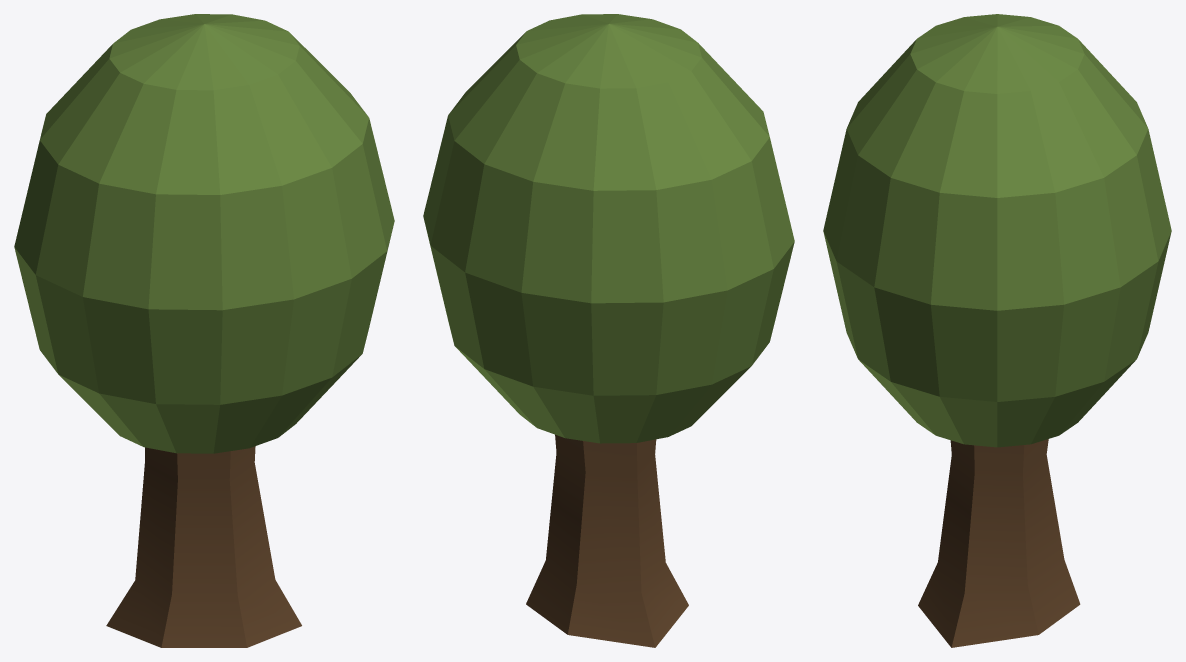
Rendered from Pohon1.fbx.
The picture shows the model from 3 angles, left to right: view 1: azimuth 30°, elevation 25°; view 2: azimuth 150°, elevation 25°; view 3: azimuth 270°, elevation 25°; orthographic projection. The views are drawn at different scales.
Parts seen in each view (by area): view 1: tree_2c.001; view 2: tree_2c.001; view 3: tree_2c.001.
Part boxes in pixels (left/top/right/bottom): tree_2c.001: left=14, top=14, right=394, bottom=647; tree_2c.001: left=423, top=14, right=794, bottom=647; tree_2c.001: left=823, top=14, right=1171, bottom=647.
Bounding box in the file's own units: 318 × 542 × 292.
